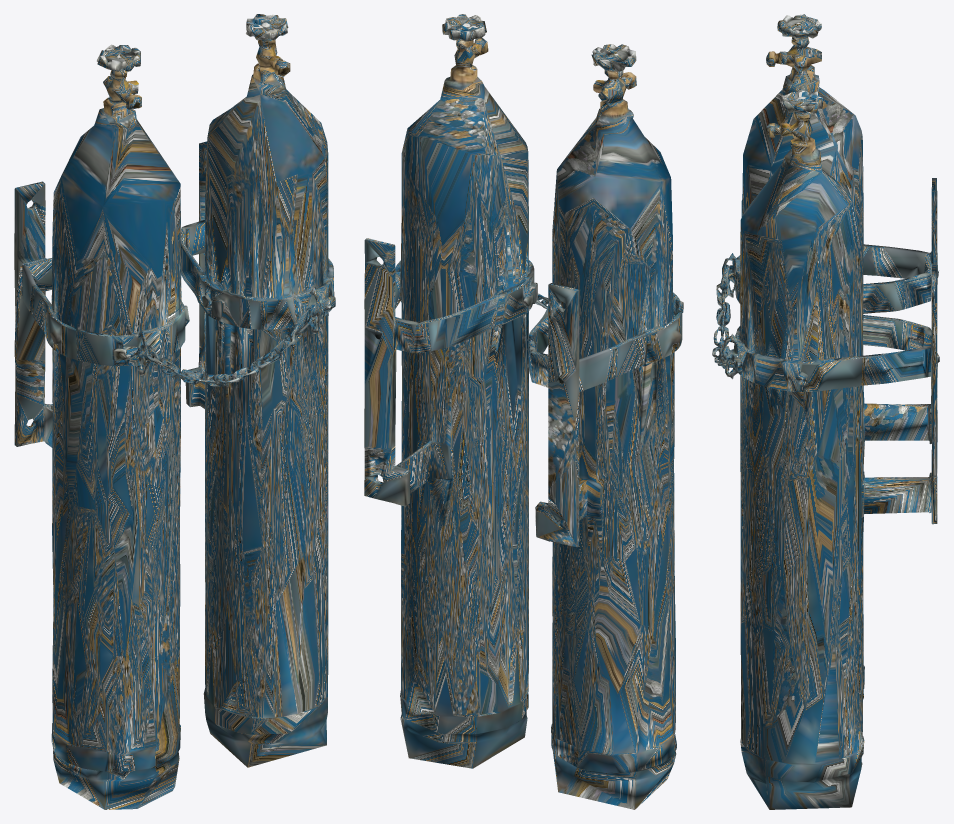
The model's file is oxygen_bottles.cd52e2e8ef.glb.
The picture shows the model from 3 angles, left to right: view 1: azimuth 30°, elevation 25°; view 2: azimuth 150°, elevation 25°; view 3: azimuth 270°, elevation 25°; orthographic projection. The views are drawn at different scales.
Parts seen in each view (by area): view 1: oxygen_bottles; view 2: oxygen_bottles; view 3: oxygen_bottles.
Boxes of the visible parts, x1,y1,x2,y2 form: oxygen_bottles: (14,14,335,809); oxygen_bottles: (364,14,683,809); oxygen_bottles: (712,14,939,809).
Size of the model in its own units: 0.6325 by 1.6 by 0.4671.
1 material, 1 textured.
